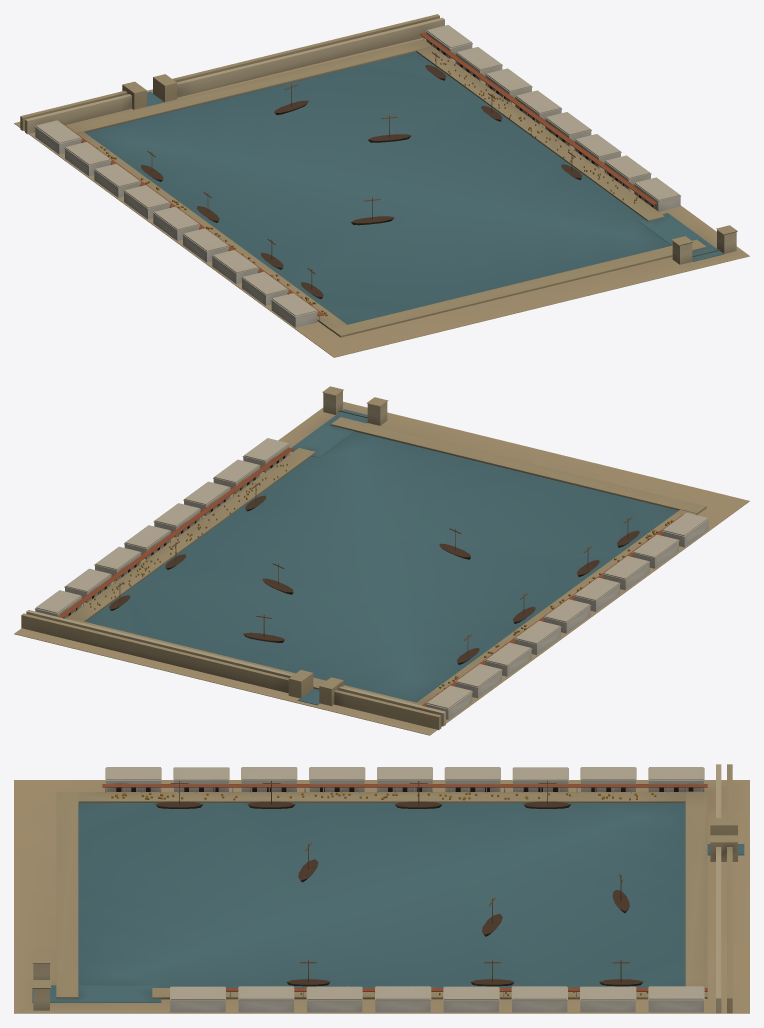
File: commercial-harbour.glb
3 renders of one model, top to bottom at view 1: azimuth 30°, elevation 25°; view 2: azimuth 150°, elevation 25°; view 3: azimuth 270°, elevation 25°, orthographic. The views are drawn at different scales.
Parts seen in each view (by area): view 1: p0_basin, p2_ships, p1_stores; view 2: p0_basin, p2_ships, p1_stores; view 3: p0_basin, p2_ships, p1_stores.
Boxes of the visible parts, x1,y1,x2,y2 form: p0_basin: (14, 37, 749, 357); p2_ships: (34, 25, 680, 317); p1_stores: (20, 14, 737, 327); p0_basin: (14, 401, 749, 735); p2_ships: (35, 438, 709, 710); p1_stores: (21, 386, 708, 730); p0_basin: (14, 780, 749, 1013); p2_ships: (102, 767, 707, 1000); p1_stores: (32, 764, 744, 1013).
Bounding box in the file's own units: 301 × 17.8 × 400.
